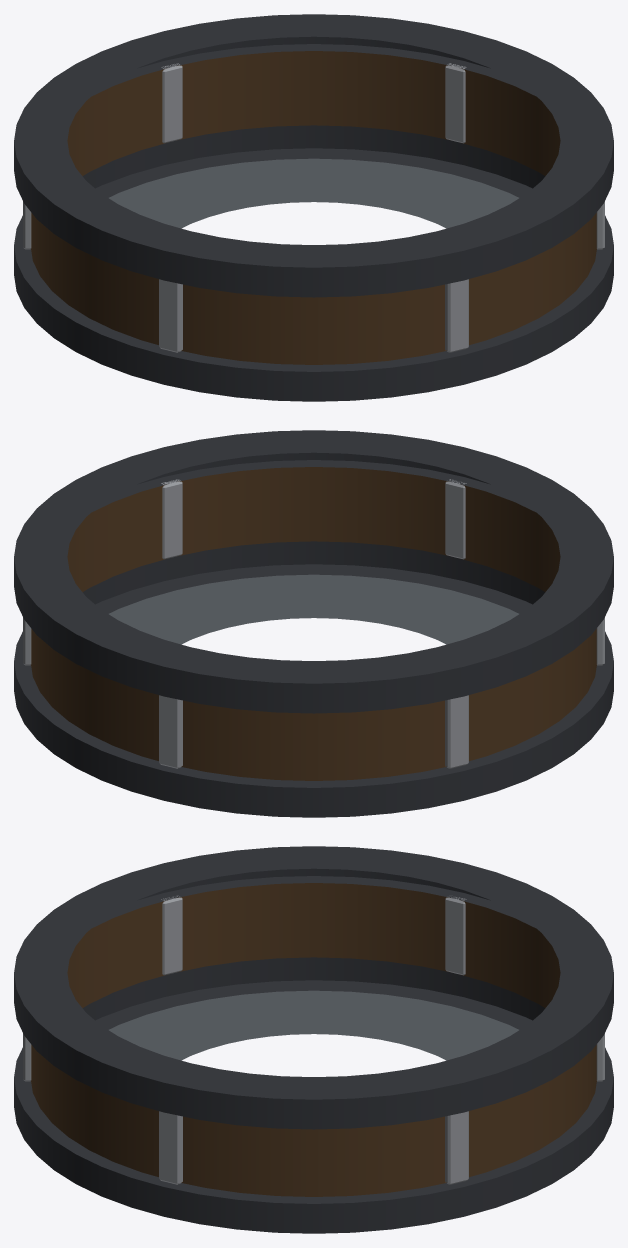
Rendered from fcrcs_coil.obj.
3 views of the same model, one above another, from view 1: azimuth 30°, elevation 25°; view 2: azimuth 150°, elevation 25°; view 3: azimuth 270°, elevation 25° (orthographic).
Visible parts, largest first — view 1: fcrcs_coil; view 2: fcrcs_coil; view 3: fcrcs_coil.
Boxes of the visible parts, x1,y1,x2,y2 form: fcrcs_coil: (14, 14, 613, 401); fcrcs_coil: (14, 430, 613, 817); fcrcs_coil: (14, 846, 613, 1233).
Bounding box in the file's own units: 0.73 × 0.18 × 0.73.
